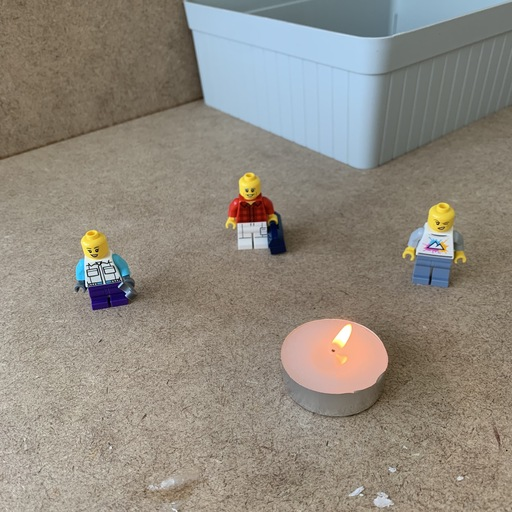fire: (323, 317, 359, 364)
human: (71, 222, 140, 316), (400, 199, 463, 292), (219, 171, 286, 256)
